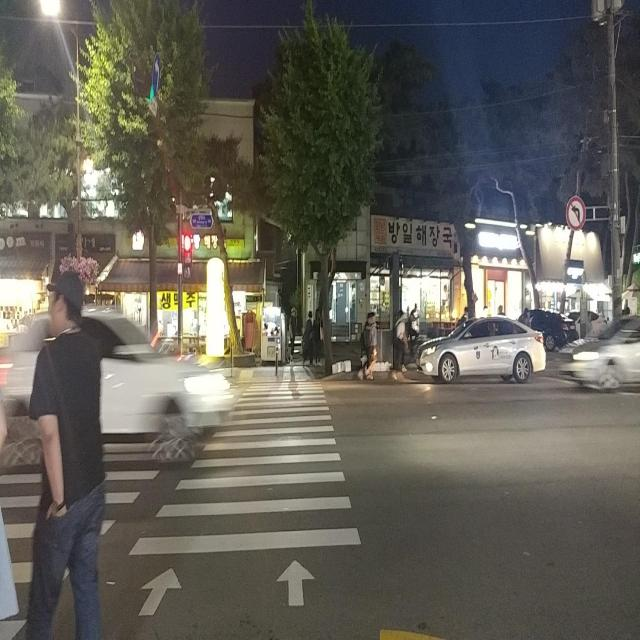빨간불: (181, 236, 193, 284)
횡단보도: (0, 378, 364, 640)
